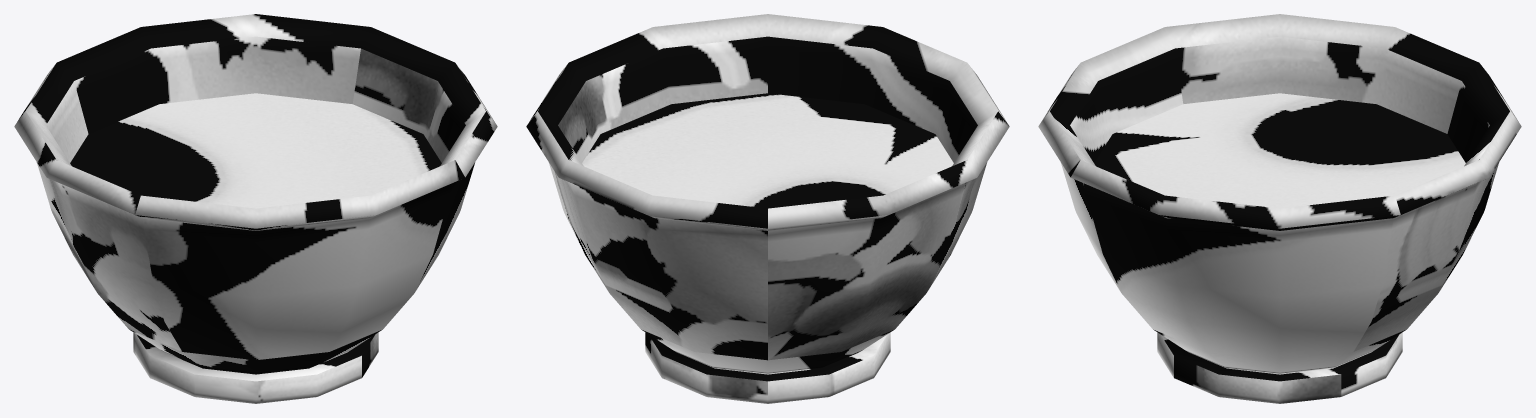
File: BigPot.fbx
3 renders of one model, left to right at view 1: azimuth 30°, elevation 25°; view 2: azimuth 150°, elevation 25°; view 3: azimuth 270°, elevation 25°, orthographic.
Parts seen in each view (by area): view 1: big pot, big pot.001; view 2: big pot, big pot.001; view 3: big pot, big pot.001.
Boxes of the visible parts, box(x1,y1,x2,y2) form: big pot: box(14, 14, 497, 403); big pot.001: box(70, 93, 441, 208); big pot: box(526, 14, 1009, 403); big pot.001: box(582, 93, 953, 208); big pot: box(1038, 14, 1521, 403); big pot.001: box(1094, 93, 1465, 208).
Size of the model in its own units: 211 by 116 by 211.
